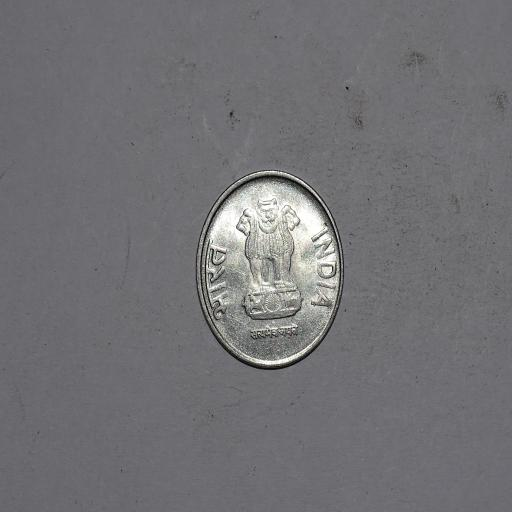rupee2: (190, 169, 344, 372)
